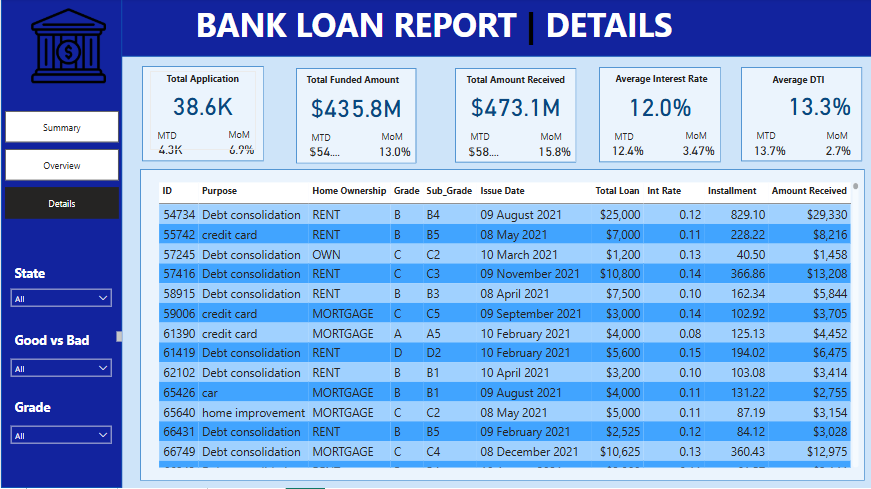

This screenshot's page, from the dashboard's own definition file:
{"tool":"powerbi","page":{"name":"Details","canvas":[1280,720],"ordinal":2},"visuals":[{"type":"shape","box":[0,0,1280,86],"z":0},{"type":"shape","box":[206.8,100.3,179.5,139.9],"z":0,"group":"g2"},{"type":"shape","box":[878.3,101.8,179.5,139.9],"z":0,"group":"g1"},{"type":"shape","box":[1088,101.8,178.1,138.5],"z":0,"group":"g4"},{"type":"shape","box":[433.4,102.5,176.8,140.3],"z":0,"group":"g3"},{"type":"shape","box":[666.8,102.6,178.5,138.8],"z":0,"group":"g5"},{"type":"shape","box":[0,0,178.1,720],"z":1000},{"type":"card","fields":{"Values":["measuretable.MTD total application"]},"box":[218.9,209.5,60,23.8],"z":1000,"group":"g2"},{"type":"card","fields":{"Values":["measuretable.MTD average dti"]},"box":[1100,209.9,60,23.6],"z":1000,"group":"g4"},{"type":"card","fields":{"Values":["measuretable.MTD total payment"]},"box":[678.8,210.9,60.1,23.6],"z":1000,"group":"g5"},{"type":"card","fields":{"Values":["measuretable.MTD intrest rate"]},"box":[890.4,211,60,23.8],"z":1000,"group":"g1"},{"type":"card","fields":{"Values":["measuretable.MTD total loan"]},"box":[445.3,212,60,23.9],"z":1000,"group":"g3"},{"type":"textbox","box":[280,0,720,79.3],"z":2000},{"type":"card","fields":{"Values":["measuretable.MoM total application"]},"box":[323.3,209.5,60,23.8],"z":2000,"group":"g2"},{"type":"card","fields":{"Values":["measuretable.MoM average DTI"]},"box":[1203.7,209.9,53.4,23.6],"z":2000,"group":"g4"},{"type":"card","fields":{"Values":["measuretable.MoM total payment"]},"box":[782.7,210.9,60.1,23.6],"z":2000,"group":"g5"},{"type":"card","fields":{"Values":["measuretable.MoM avrage intrest rate"]},"box":[994.8,211,60,23.8],"z":2000,"group":"g1"},{"type":"card","fields":{"Values":["measuretable.MoM total loan"]},"box":[548.2,212,60,23.9],"z":2000,"group":"g3"},{"type":"group","id":"g1","title":"interest","box":[878.3,101.8,180.7,139.9],"z":3000},{"type":"textbox","box":[328.6,187.3,50,28.3],"z":3000,"group":"g2"},{"type":"textbox","box":[1208.9,187.9,50,28],"z":3000,"group":"g4"},{"type":"textbox","box":[1000.1,188.8,50,28.3],"z":3000,"group":"g1"},{"type":"textbox","box":[788,188.9,50,28.1],"z":3000,"group":"g5"},{"type":"textbox","box":[553.4,189.7,50,28.4],"z":3000,"group":"g3"},{"type":"group","id":"g2","title":"Application","box":[206.8,100.3,179.5,139.9],"z":4000},{"type":"textbox","box":[224,188,50,28.3],"z":4000,"group":"g2"},{"type":"textbox","box":[1105.1,188.6,50,28],"z":4000,"group":"g4"},{"type":"textbox","box":[895.5,189.5,50,28.3],"z":4000,"group":"g1"},{"type":"textbox","box":[683.9,189.6,50,28.1],"z":4000,"group":"g5"},{"type":"textbox","box":[450.4,190.4,50,28.4],"z":4000,"group":"g3"},{"type":"group","id":"g3","title":"Funded amount","box":[433.4,102.5,176.8,140.3],"z":5000},{"type":"card","fields":{"Values":["measuretable.total application"]},"box":[218.9,107.3,155.4,116.2],"z":5000,"group":"g2"},{"type":"card","fields":{"Values":["measuretable.average intrest rate"]},"box":[890.4,108.8,155.4,116.2],"z":5000,"group":"g1"},{"type":"card","fields":{"Values":["measuretable.average dti"]},"box":[1125.6,109.4,154.2,115],"z":5000,"group":"g4"},{"type":"card","fields":{"Values":["measuretable.total loan"]},"box":[445.3,109.5,153.1,116.5],"z":5000,"group":"g3"},{"type":"card","fields":{"Values":["measuretable.total payment"]},"box":[678.8,109.5,154.5,115.2],"z":5000,"group":"g5"},{"type":"group","id":"g4","title":"DTI","box":[1088,101.8,191.8,138.5],"z":6000},{"type":"textbox","box":[897.5,104.1,161.5,31.7],"z":6000,"group":"g1"},{"type":"textbox","box":[237.3,104.9,125.3,33.2],"z":6000,"group":"g2"},{"type":"textbox","box":[443.3,105.3,163,33.2],"z":6000,"group":"g3"},{"type":"textbox","box":[679.2,105.6,163,30.2],"z":6000,"group":"g5"},{"type":"textbox","box":[1128.8,105.7,140.4,33.2],"z":6000,"group":"g4"},{"type":"group","id":"g5","title":"amount received","box":[666.8,102.6,178.5,138.8],"z":7000},{"type":"slicer","fields":{"Values":["bank_data financial_loan.address_state"]},"box":[4.4,416.6,167.5,55.8],"z":8000},{"type":"slicer","fields":{"Values":["bank_data financial_loan.good vs bad loan"]},"box":[4.4,520.2,167.5,57.3],"z":9000},{"type":"slicer","fields":{"Values":["bank_data financial_loan.grade"]},"box":[4.4,618.6,167.5,57.3],"z":10000},{"type":"textbox","box":[14.7,386.4,130.8,35.3],"z":11000},{"type":"textbox","box":[15,484.5,167.5,36.2],"z":12000},{"type":"textbox","box":[14.7,583.3,130.8,45.6],"z":13000},{"type":"shape","box":[204.2,251.3,1065.3,458.4],"z":14000},{"type":"tableEx","fields":{"Values":["bank_data financial_loan.id","bank_data financial_loan.purpose","bank_data financial_loan.home_ownership","bank_data financial_loan.grade","bank_data financial_loan.sub_grade","bank_data financial_loan.issue_date","measuretable.total loan","Sum(bank_data financial_loan.int_rate)","Sum(bank_data financial_loan.installment)","measuretable.total payment"]},"box":[226.3,266,1038.9,429.1],"z":15000},{"type":"pageNavigator","box":[5.9,166,167.5,158.7],"z":16000},{"type":"image","box":[10,10,177.8,120.5],"z":17000}]}

Visuals, with their boxes in screenshot pixels (x1, y1, x2, y2), scaled from the page's 1280x720 canvas onto the 871x489 screenshot:
shape: (0,0,870,58)
shape: (141,68,263,163)
shape: (598,69,720,164)
shape: (740,69,862,163)
shape: (295,70,415,165)
shape: (454,70,575,164)
shape: (0,0,121,488)
card - measuretable.MTD total application: (149,142,190,158)
card - measuretable.MTD average dti: (749,143,789,159)
card - measuretable.MTD total payment: (462,143,503,159)
card - measuretable.MTD intrest rate: (606,143,647,159)
card - measuretable.MTD total loan: (303,144,344,160)
textbox: (191,0,680,54)
card - measuretable.MoM total application: (220,142,261,158)
card - measuretable.MoM average DTI: (819,143,855,159)
card - measuretable.MoM total payment: (533,143,573,159)
card - measuretable.MoM avrage intrest rate: (677,143,718,159)
card - measuretable.MoM total loan: (373,144,414,160)
"interest" group: (598,69,721,164)
textbox: (224,127,258,146)
textbox: (823,128,857,147)
textbox: (681,128,715,147)
textbox: (536,128,570,147)
textbox: (377,129,411,148)
"Application" group: (141,68,263,163)
textbox: (152,128,186,147)
textbox: (752,128,786,147)
textbox: (609,129,643,148)
textbox: (465,129,499,148)
textbox: (306,129,341,149)
"Funded amount" group: (295,70,415,165)
card - measuretable.total application: (149,73,255,152)
card - measuretable.average intrest rate: (606,74,712,153)
card - measuretable.average dti: (766,74,870,152)
card - measuretable.total loan: (303,74,407,153)
card - measuretable.total payment: (462,74,567,153)
"DTI" group: (740,69,870,163)
textbox: (611,71,721,92)
textbox: (161,71,247,94)
textbox: (302,72,413,94)
textbox: (462,72,573,92)
textbox: (768,72,864,94)
"amount received" group: (454,70,575,164)
slicer - bank_data financial_loan.address_state: (3,283,117,321)
slicer - bank_data financial_loan.good vs bad loan: (3,353,117,392)
slicer - bank_data financial_loan.grade: (3,420,117,459)
textbox: (10,262,99,286)
textbox: (10,329,124,354)
textbox: (10,396,99,427)
shape: (139,171,864,482)
tableEx - bank_data financial_loan.id x bank_data financial_loan.purpose: (154,181,861,472)
pageNavigator: (4,113,118,221)
image: (7,7,128,89)
